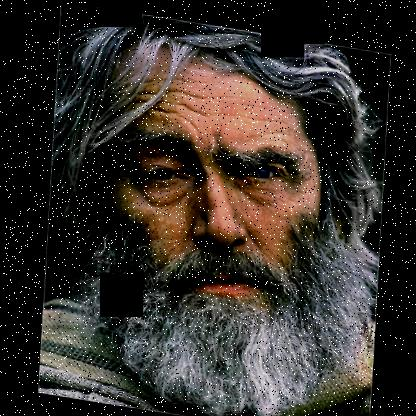Male: (63, 23, 398, 416)
